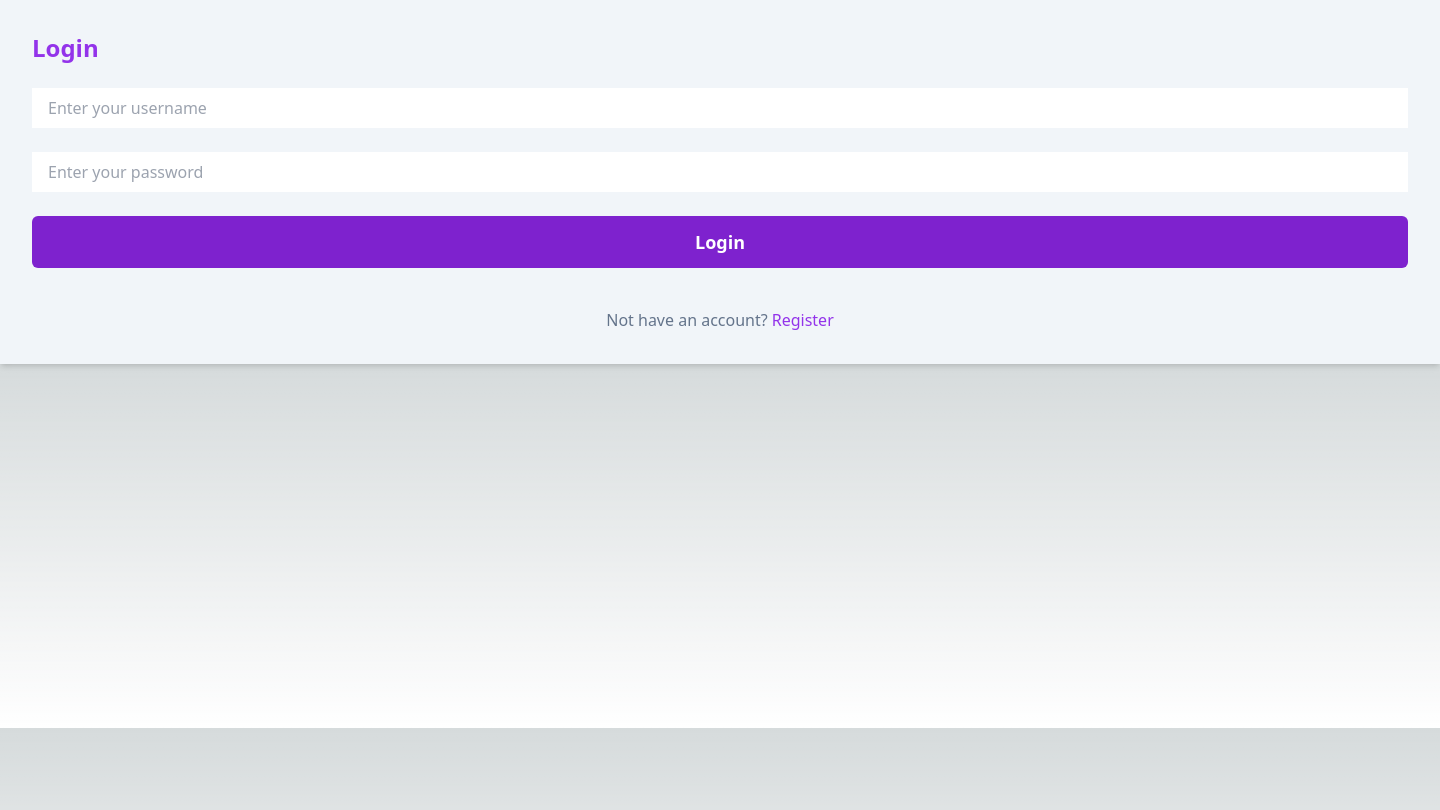
Login Page › should show the error message for required fields
Click the button "Login": x=720, y=242 x1=32 y1=216 x2=1408 y2=268
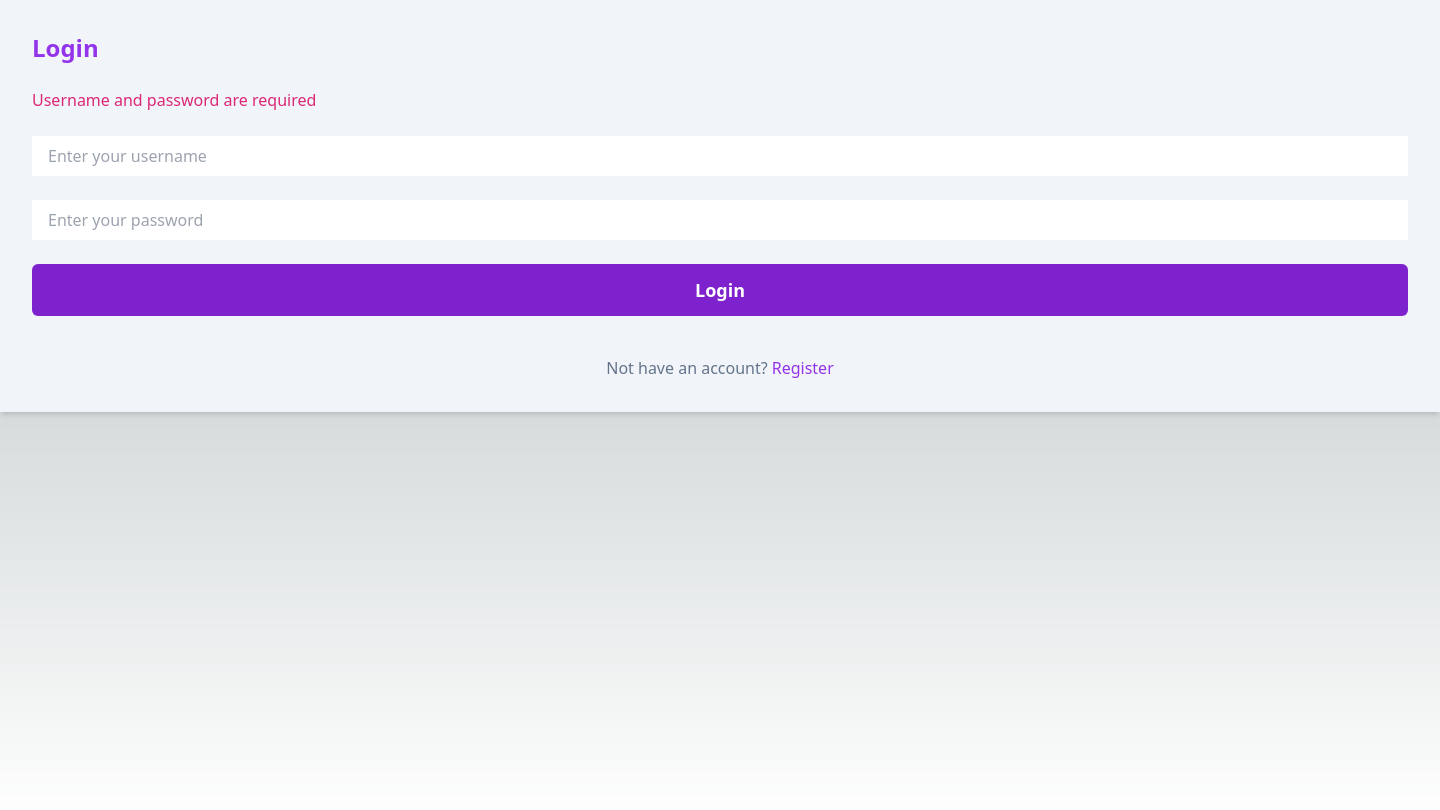
Expected: the text "Username and password are required" is shown, x1=32 y1=89 x2=316 y2=111
